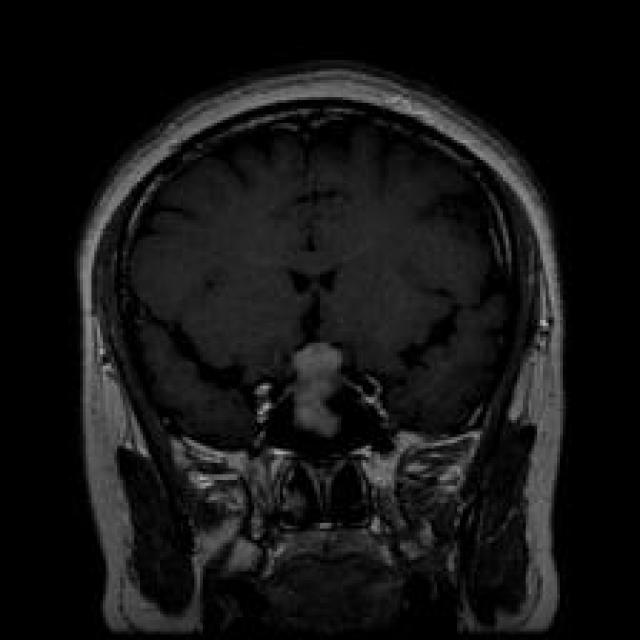pituitary_tumor: (272, 331, 361, 443)
